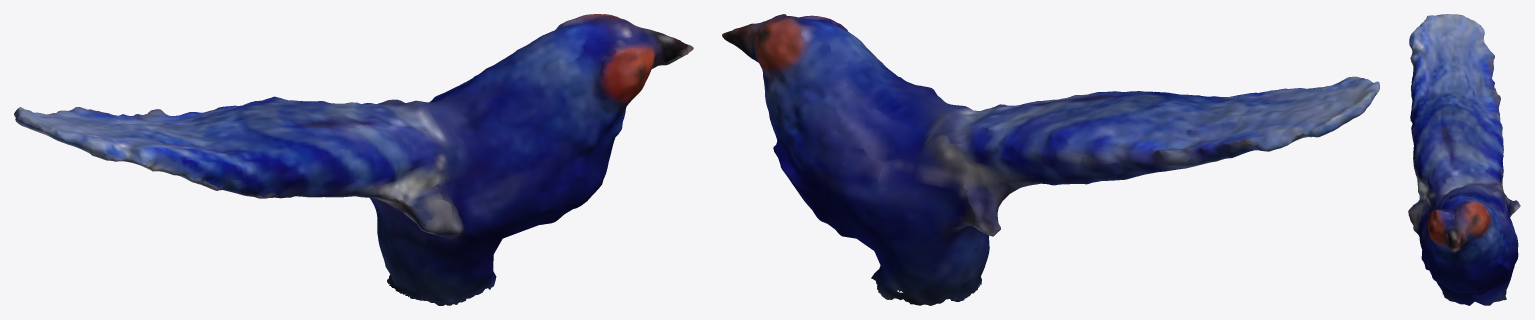
Rendered from bird.glb.
The picture shows the model from 3 angles, left to right: view 1: azimuth 30°, elevation 25°; view 2: azimuth 150°, elevation 25°; view 3: azimuth 270°, elevation 25°; orthographic projection. The views are drawn at different scales.
Visible parts, largest first — view 1: mesh; view 2: mesh; view 3: mesh.
Boxes of the visible parts, box(x1,y1,x2,y2) form: mesh: box(14, 14, 693, 305); mesh: box(722, 14, 1379, 305); mesh: box(1408, 14, 1520, 305).
Size of the model in its own units: 0.2219 by 0.0903 by 0.0567.
1 material, 1 textured.
